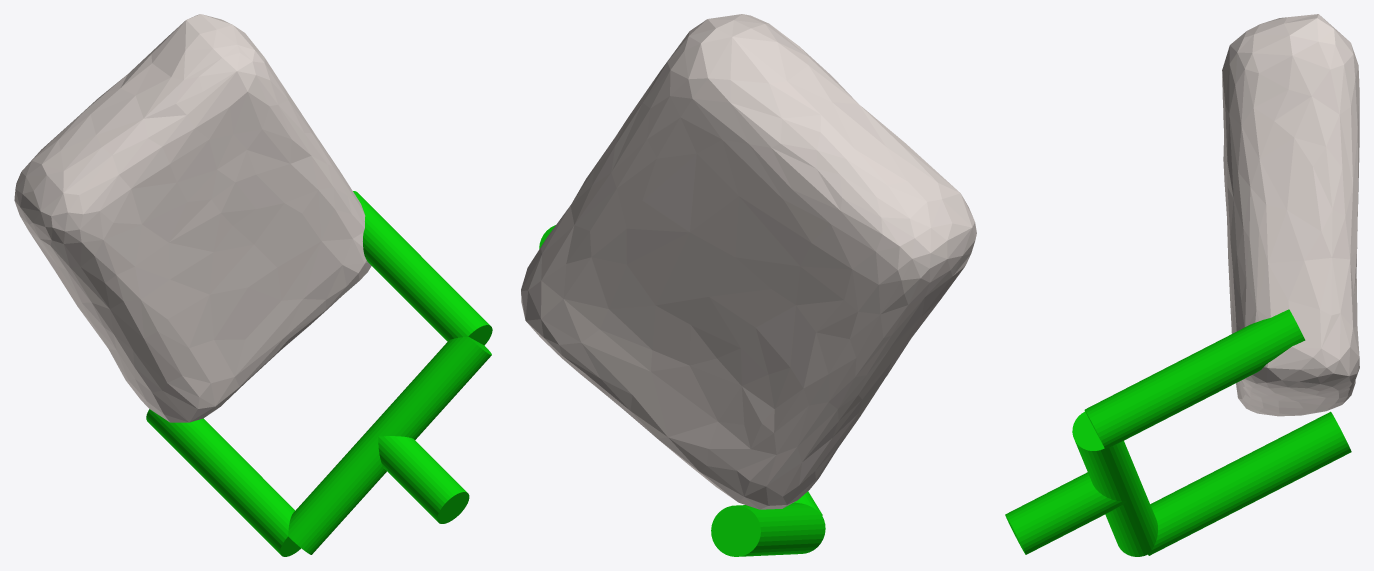
File: round_001_trial_000.obj
3 views of the same model, side by side, from view 1: azimuth 30°, elevation 25°; view 2: azimuth 150°, elevation 25°; view 3: azimuth 270°, elevation 25° (orthographic). The views are drawn at different scales.
Visible parts, largest first — view 1: geometry_0, geometry_1; view 2: geometry_0, geometry_1; view 3: geometry_0, geometry_1.
Part boxes in pixels (x1,y1,x2,y2): geometry_0: (14,14,371,422); geometry_1: (146,191,492,556); geometry_0: (521,14,976,509); geometry_1: (539,225,825,556); geometry_0: (1222,14,1359,416); geometry_1: (1005,309,1351,556).
Size of the model in its own units: 0.1034 by 0.1282 by 0.0779.
